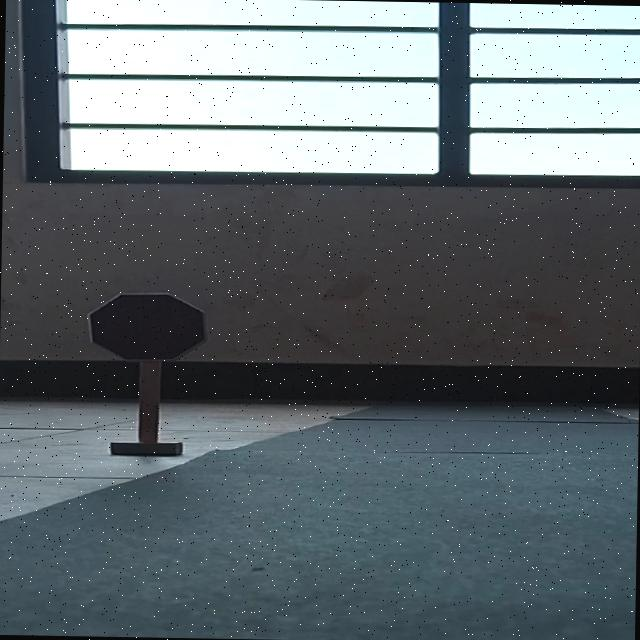Stop: (86, 291, 210, 363)
